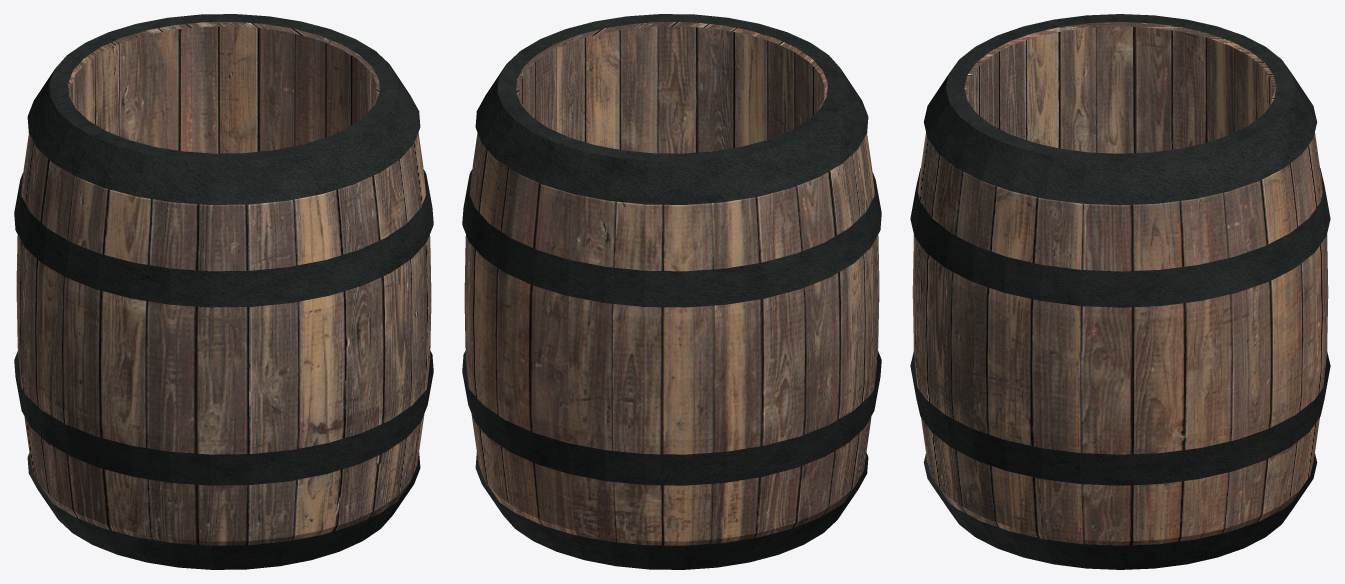
File: Barril.obj
The picture shows the model from 3 angles, left to right: view 1: azimuth 30°, elevation 25°; view 2: azimuth 150°, elevation 25°; view 3: azimuth 270°, elevation 25°; orthographic projection.
Visible parts, largest first — view 1: Barril_Cilindro, tira_Cilindro.002; view 2: Barril_Cilindro, tira_Cilindro.002; view 3: Barril_Cilindro, tira_Cilindro.002.
Part boxes in pixels (box(x1,y1,x2,y2)): Barril_Cilindro: box(16, 22, 431, 545); tira_Cilindro.002: box(14, 14, 433, 569); Barril_Cilindro: box(464, 22, 879, 545); tira_Cilindro.002: box(462, 14, 881, 569); Barril_Cilindro: box(912, 22, 1328, 545); tira_Cilindro.002: box(910, 14, 1330, 569).
Size of the model in its own units: 1.97 by 2.11 by 1.97.
2 materials, 2 textured.
